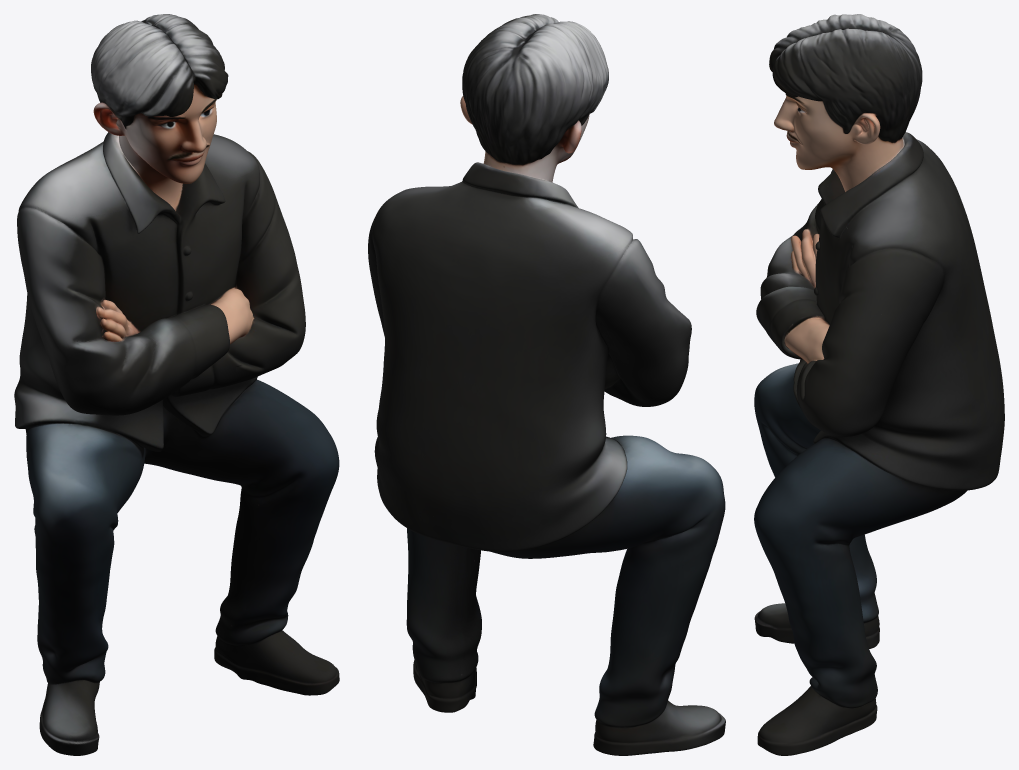
File: NikiUIUX.fbx
The picture shows the model from 3 angles, left to right: view 1: azimuth 30°, elevation 25°; view 2: azimuth 150°, elevation 25°; view 3: azimuth 270°, elevation 25°; orthographic projection. The views are drawn at different scales.
Visible parts, largest first — view 1: tripo_node_be5251b9; view 2: tripo_node_be5251b9; view 3: tripo_node_be5251b9.
Boxes of the visible parts, x1,y1,x2,y2 form: tripo_node_be5251b9: (14, 14, 339, 755); tripo_node_be5251b9: (368, 14, 725, 755); tripo_node_be5251b9: (754, 14, 1004, 755).
Bounding box in the file's own units: 0.4583 × 1 × 0.3412.
